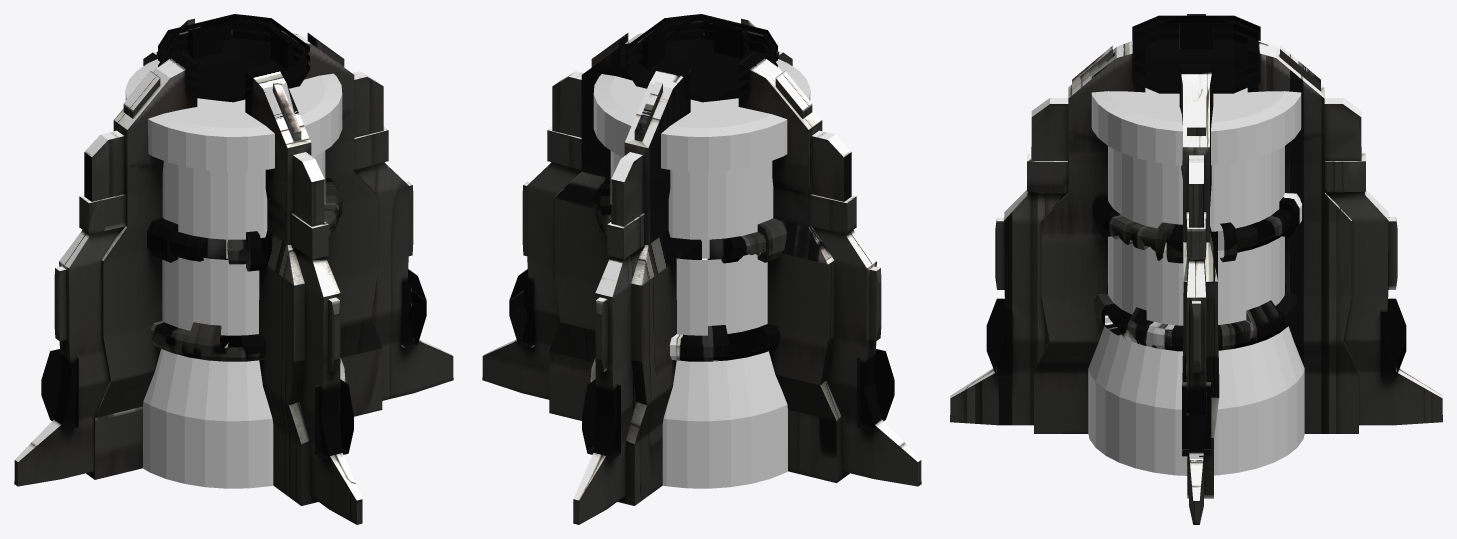
Rendered from EnergyGenerator.fbx.
3 views of the same model, side by side, from view 1: azimuth 30°, elevation 25°; view 2: azimuth 150°, elevation 25°; view 3: azimuth 270°, elevation 25° (orthographic). The views are drawn at different scales.
Visible parts, largest first — view 1: Stabilizer, Engine, GlowPart, EngineRing1, EngineRing2; view 2: Stabilizer, Engine, GlowPart, EngineRing1, EngineRing2; view 3: Stabilizer, Engine, GlowPart, EngineRing2, EngineRing1.
Boxes of the visible parts, <box> form: Stabilizer: <box>14,14,453,524</box>; Engine: <box>125,59,345,488</box>; GlowPart: <box>162,151,325,335</box>; EngineRing1: <box>147,178,342,271</box>; EngineRing2: <box>150,258,266,361</box>; Stabilizer: <box>482,14,921,524</box>; Engine: <box>590,59,810,488</box>; GlowPart: <box>610,151,773,335</box>; EngineRing1: <box>593,183,787,263</box>; EngineRing2: <box>669,258,779,361</box>; Stabilizer: <box>950,14,1442,524</box>; Engine: <box>1088,88,1304,475</box>; GlowPart: <box>1108,146,1284,325</box>; EngineRing2: <box>1094,294,1298,351</box>; EngineRing1: <box>1099,193,1302,263</box>.
Bounding box in the file's own units: 951 × 868 × 951.
